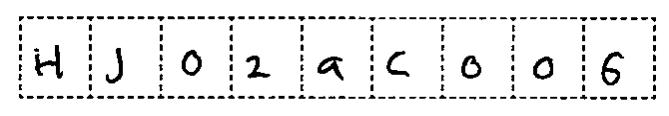0: (171, 45, 209, 82), (528, 50, 560, 85), (456, 50, 487, 84)
2: (241, 53, 276, 84)
9: (592, 44, 630, 91), (313, 52, 349, 87)
C: (383, 46, 413, 86)
H: (30, 40, 71, 85)
J: (99, 45, 129, 89)
